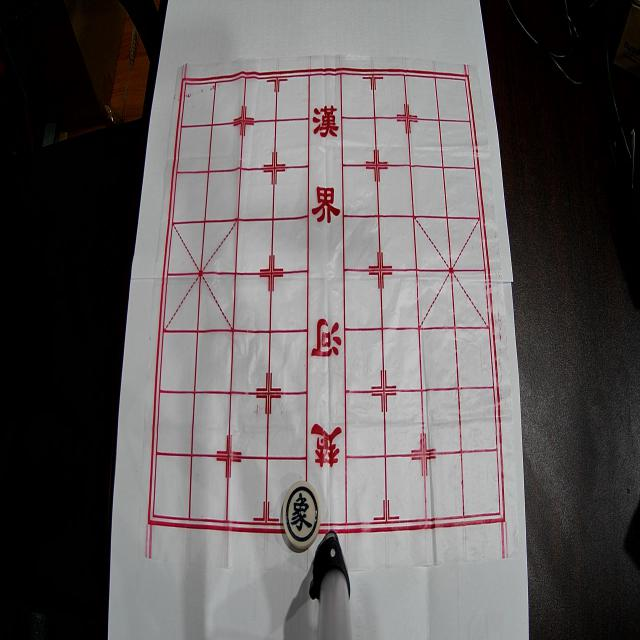black-elephant: (282, 480, 320, 550)
